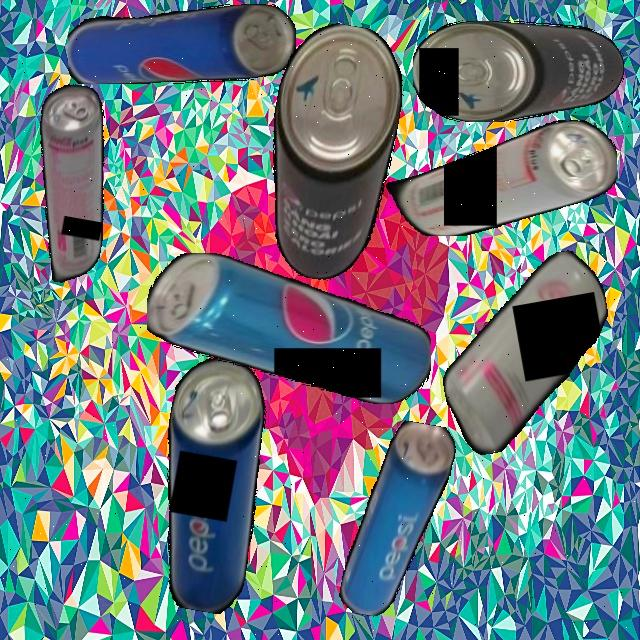debris: (248, 16, 414, 288), (425, 246, 628, 459), (146, 253, 431, 404), (138, 353, 281, 617), (385, 120, 617, 236), (337, 415, 459, 625), (13, 79, 128, 288), (413, 19, 624, 122), (67, 4, 296, 84)
